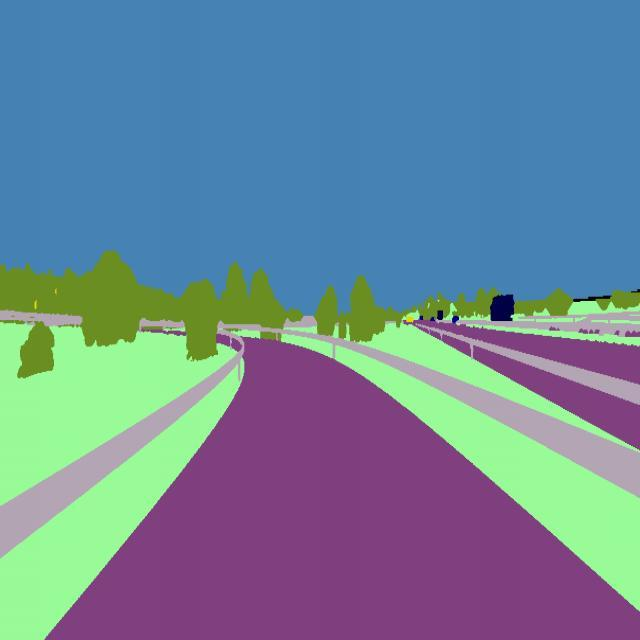safe: (485, 288, 517, 326), (451, 314, 462, 328)
